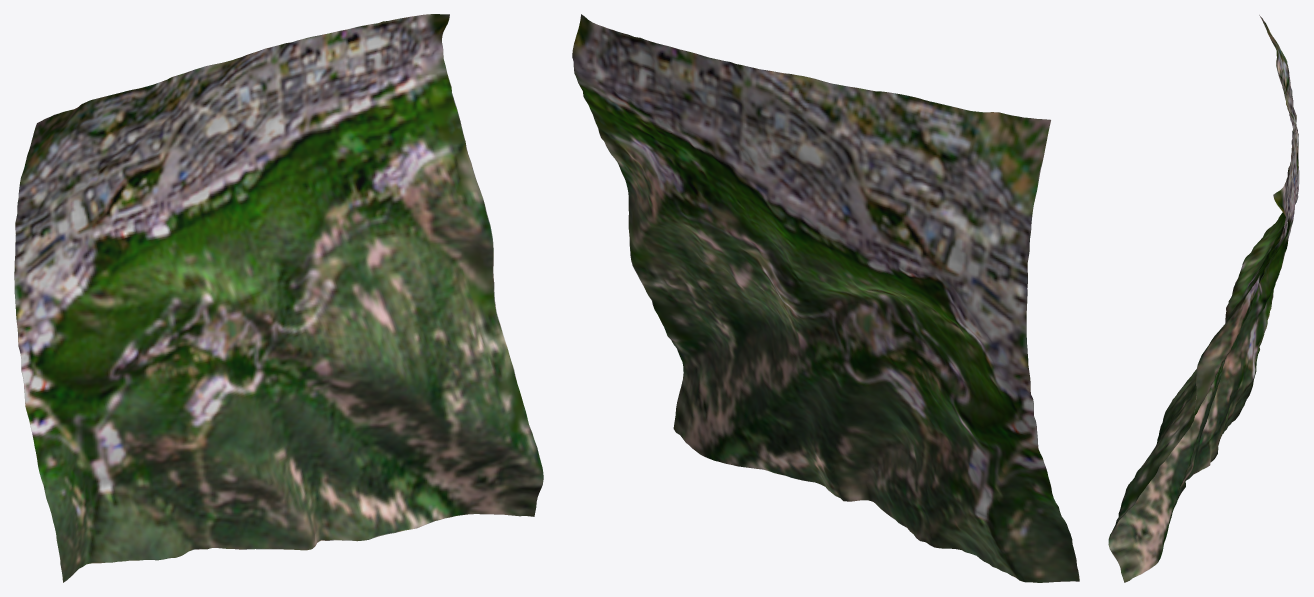
File: ground_far_03_02.obj
The picture shows the model from 3 angles, left to right: view 1: azimuth 30°, elevation 25°; view 2: azimuth 150°, elevation 25°; view 3: azimuth 270°, elevation 25°; orthographic projection. The views are drawn at different scales.
Visible parts, largest first — view 1: ground_far_03_02; view 2: ground_far_03_02; view 3: ground_far_03_02.
Boxes of the visible parts, left/top/right/bottom form: ground_far_03_02: left=14, top=14, right=543, bottom=582; ground_far_03_02: left=572, top=14, right=1079, bottom=582; ground_far_03_02: left=1108, top=15, right=1299, bottom=582.
Bounding box in the file's own units: 2000 × 2000 × 892.
1 material, 1 textured.
